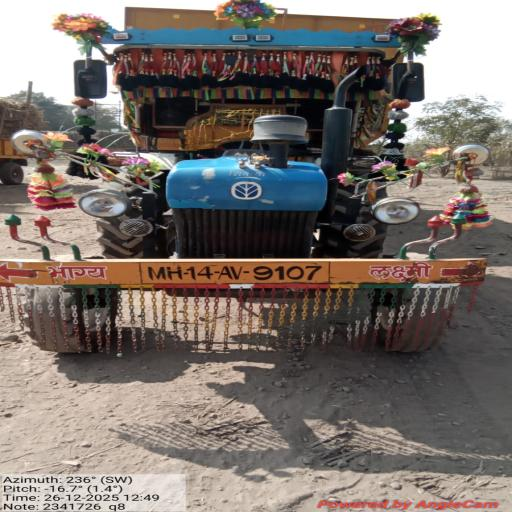number_plate: (123, 257, 356, 291)
